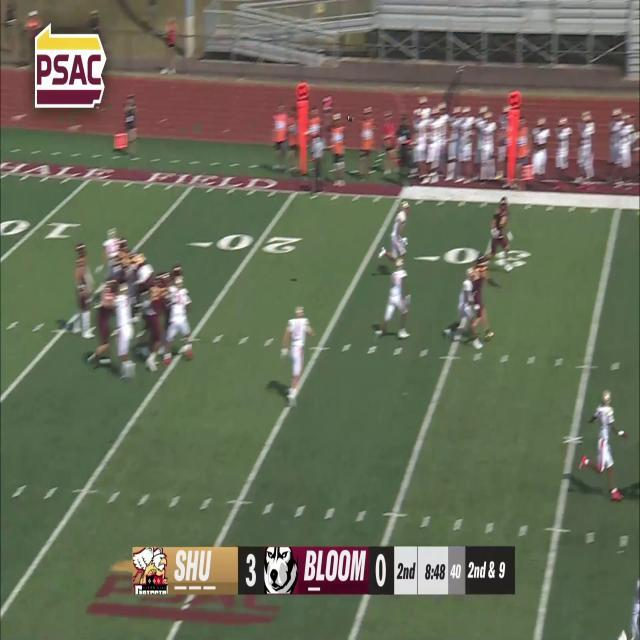football: (346, 114, 354, 123)
